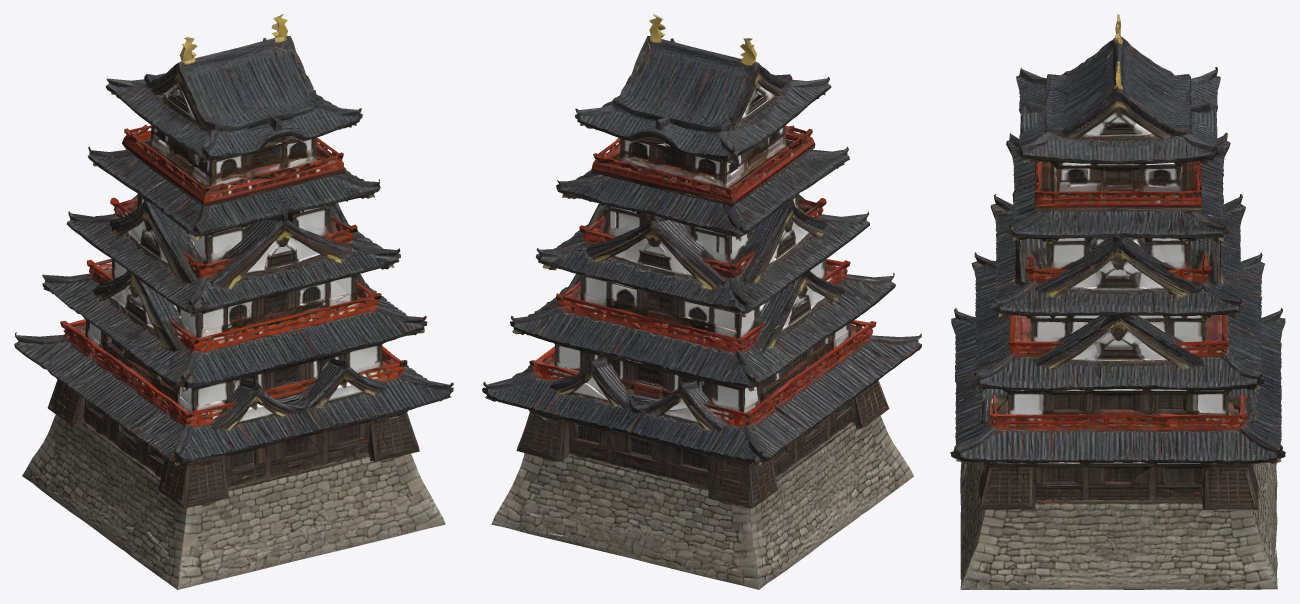
The model's file is keep-hf.opt.glb.
The picture shows the model from 3 angles, left to right: view 1: azimuth 30°, elevation 25°; view 2: azimuth 150°, elevation 25°; view 3: azimuth 270°, elevation 25°; orthographic projection. The views are drawn at different scales.
Bounding box in the file's own units: 1.2 × 1.9 × 1.19.
1 material, 1 textured.
